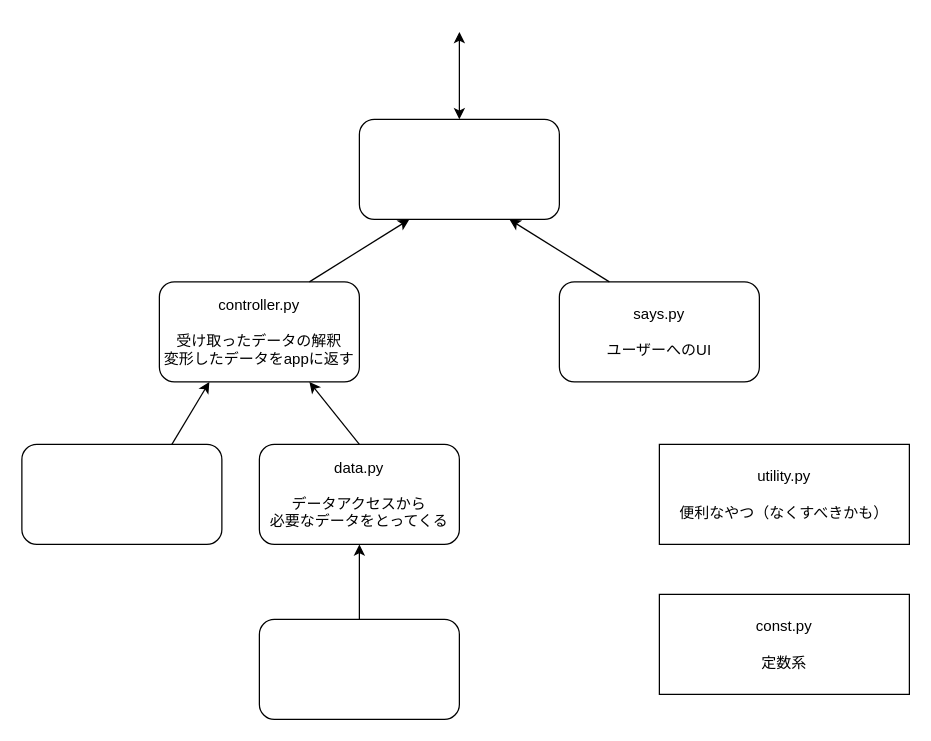
This 931x741 diagram has some shape labels left out. The box of each missing label's shape, as (x1, y1, x2, y2) in pixels:
app.py イベントハンドラ POSTされたデータを 受け取り、返す: (358, 118, 559, 219)
business.py ビジネスロジック: (21, 443, 222, 544)
crud.py データアクセス: (258, 618, 459, 719)
